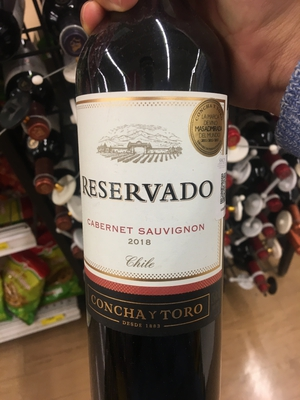reservado cabernet sauvignon: (73, 2, 228, 397)
